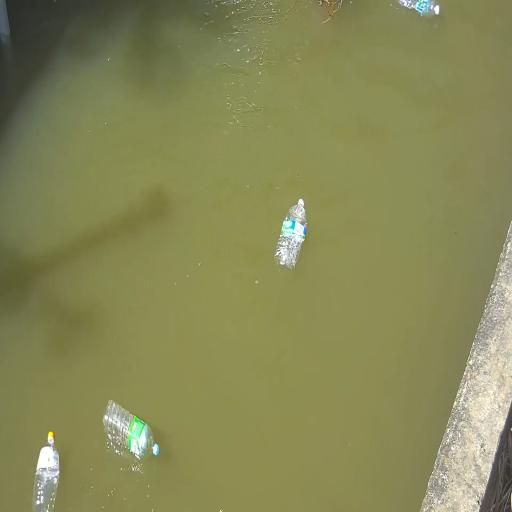plastic: (103, 400, 159, 458), (275, 199, 307, 269), (33, 432, 59, 511)
